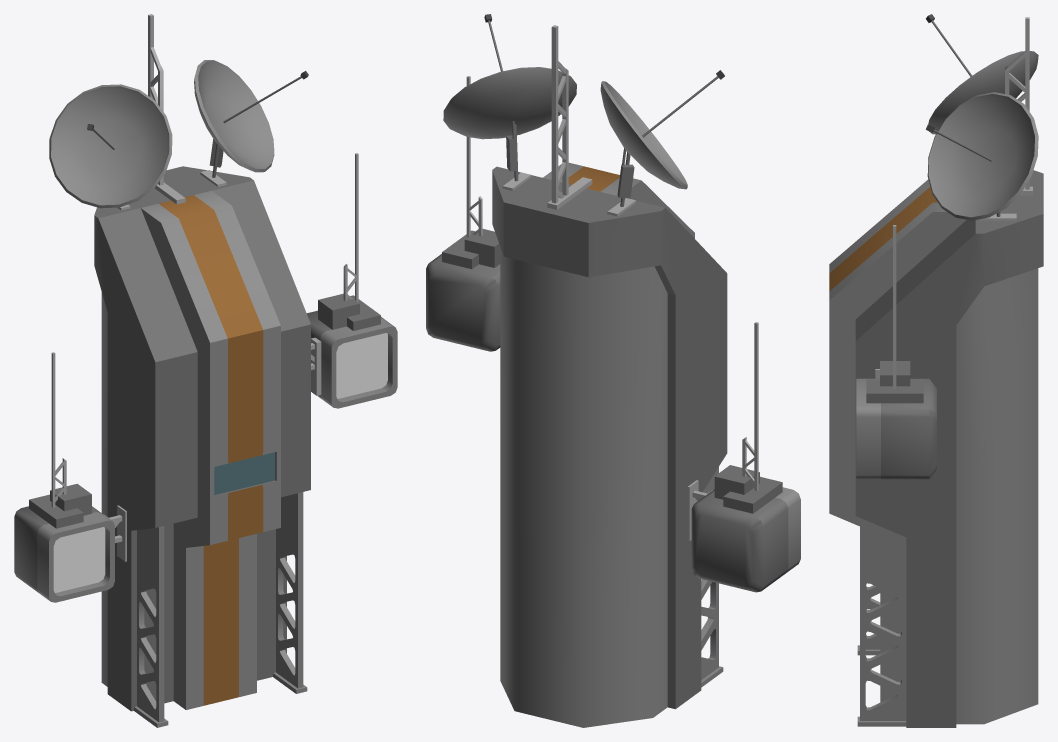
File: desk_computer.glb
The picture shows the model from 3 angles, left to right: view 1: azimuth 30°, elevation 25°; view 2: azimuth 150°, elevation 25°; view 3: azimuth 270°, elevation 25°; orthographic projection. The views are drawn at different scales.
Visible parts, largest first — view 1: Computer_Large; view 2: Computer_Large; view 3: Computer_Large.
Part boxes in pixels (<box>): Computer_Large: <box>14,14,397,727</box>; Computer_Large: <box>426,14,800,727</box>; Computer_Large: <box>829,14,1043,727</box>.
Bounding box in the file's own units: 1.29 × 2.38 × 0.6898.
1 material, 1 textured.
